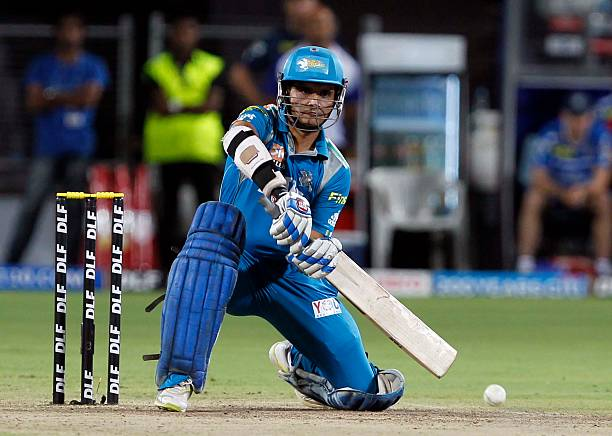bottom left: (446, 344, 464, 362)
bottom right: (429, 363, 450, 384)
top left: (332, 241, 352, 261)
top right: (321, 271, 335, 285)
